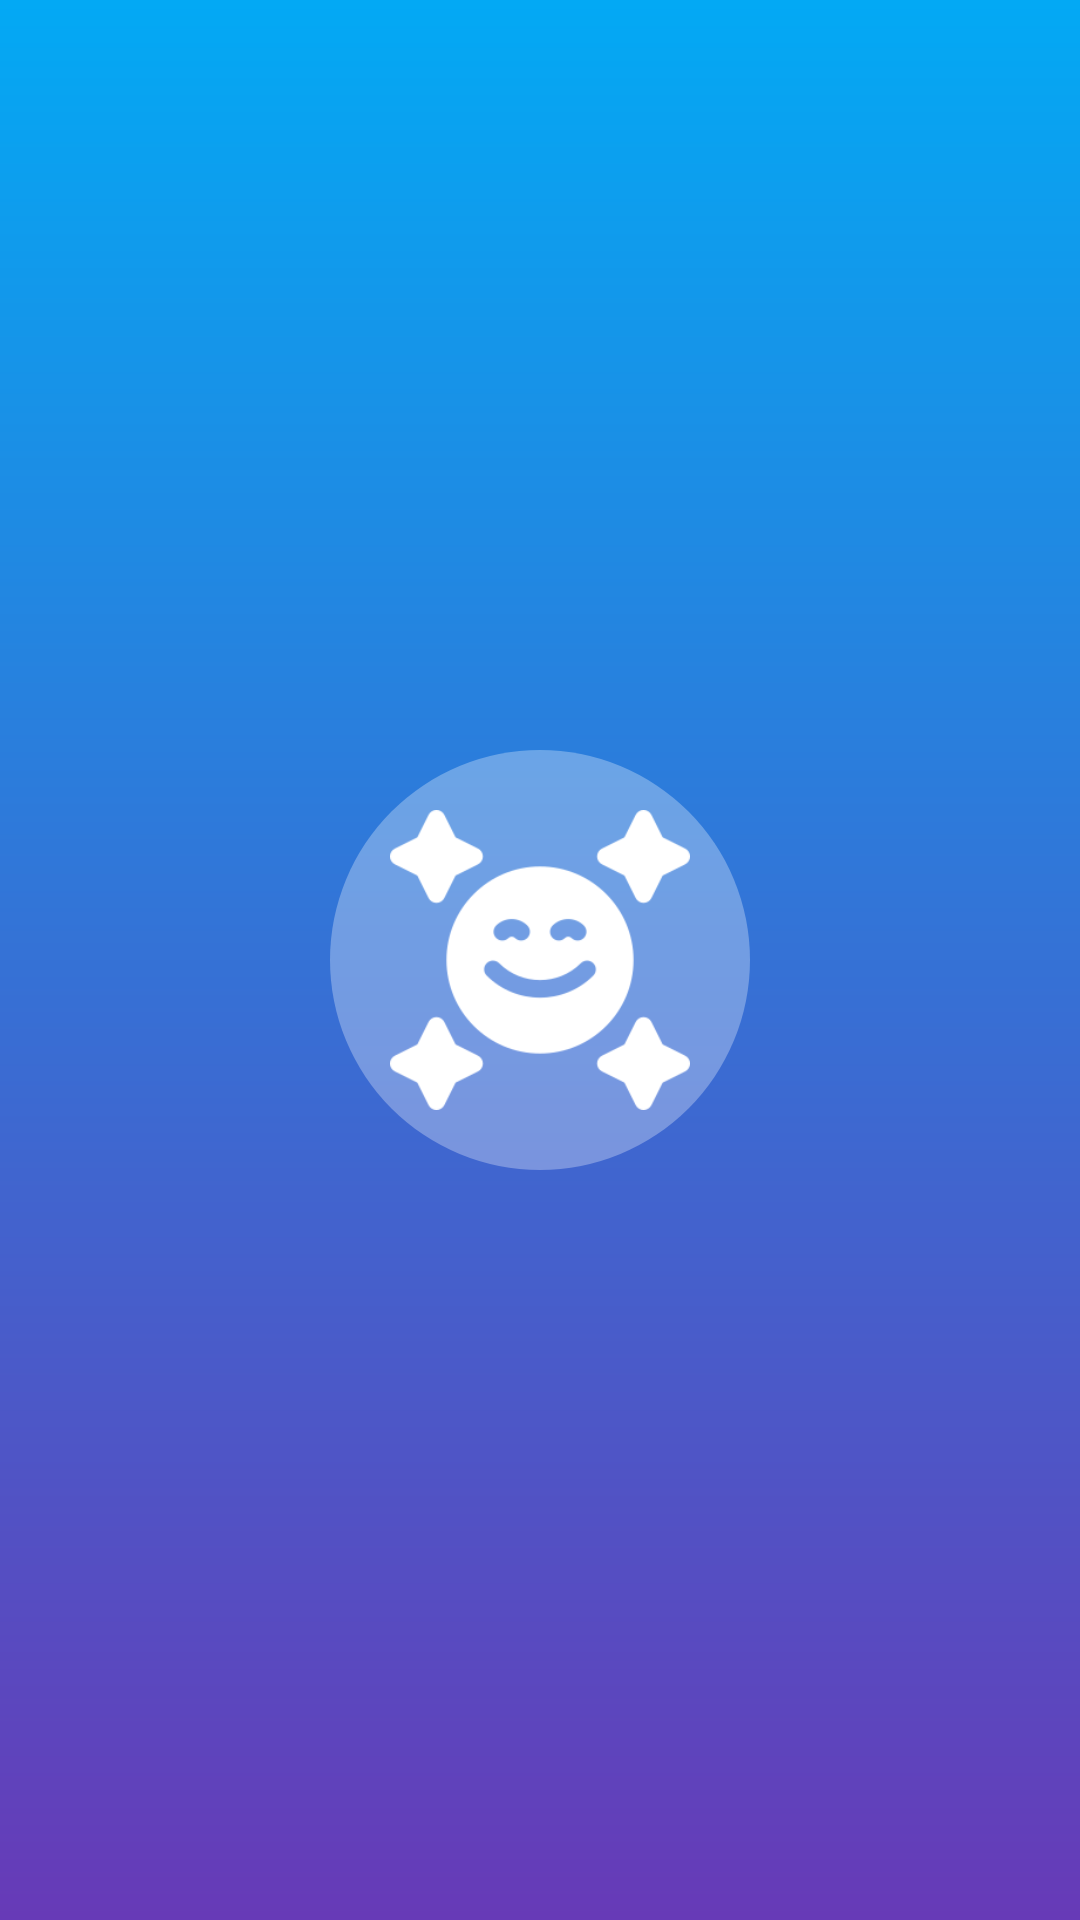

Point at icon controls on the screen. Image size 1080w x 1920h, points as point (x, y).
happy: point (540, 960)
